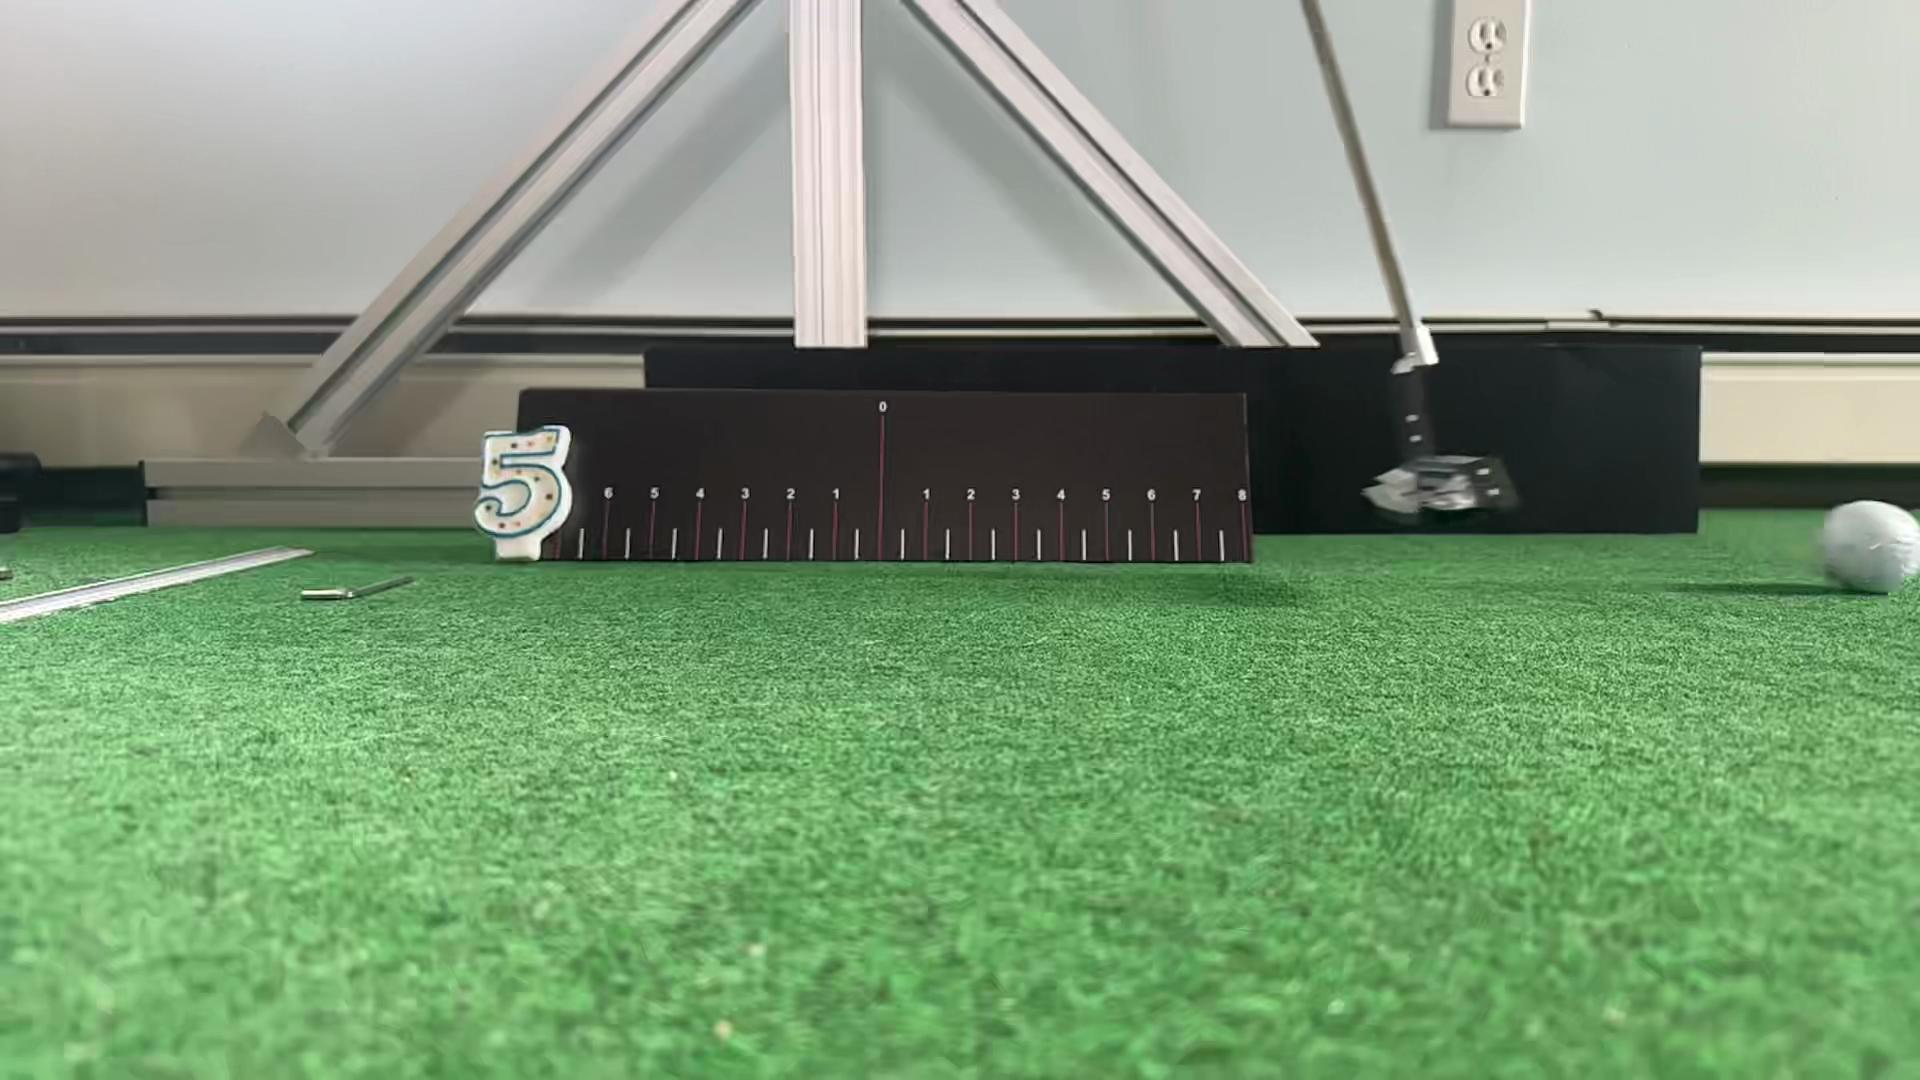golfball: (1817, 500, 1920, 595)
